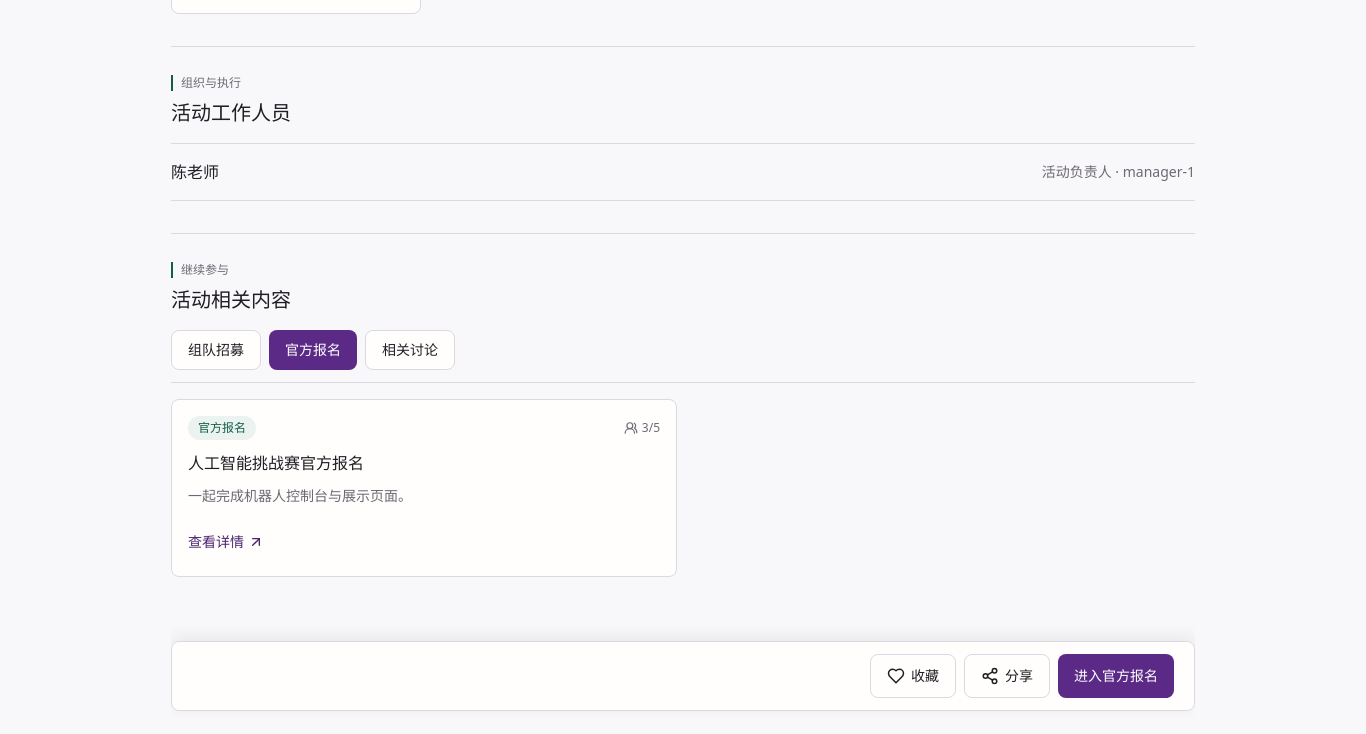
Test case: TopicDetail activity experience › keeps every related-post category reachable instead of hiding recruitment posts
The image size is (1366, 734).
(page scrolled)
Expected: the heading "人工智能挑战赛官方报名" is shown, [188, 455, 364, 472]
Click the tab "组队招募" at x=216, y=350, box [171, 330, 261, 370]
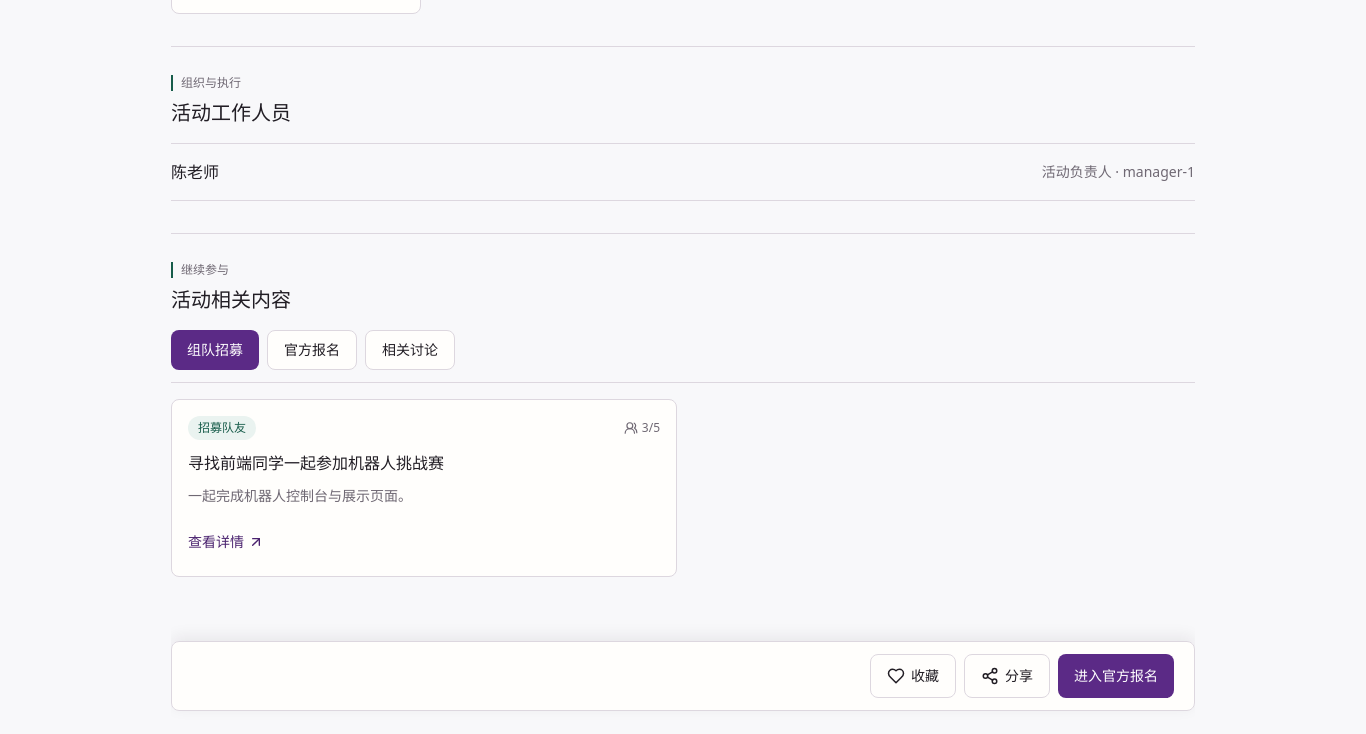
Result: the heading "寻找前端同学一起参加机器人挑战赛" is shown at [188, 455, 444, 472]
Click the tab "相关讨论" at x=410, y=350, box [365, 330, 455, 370]
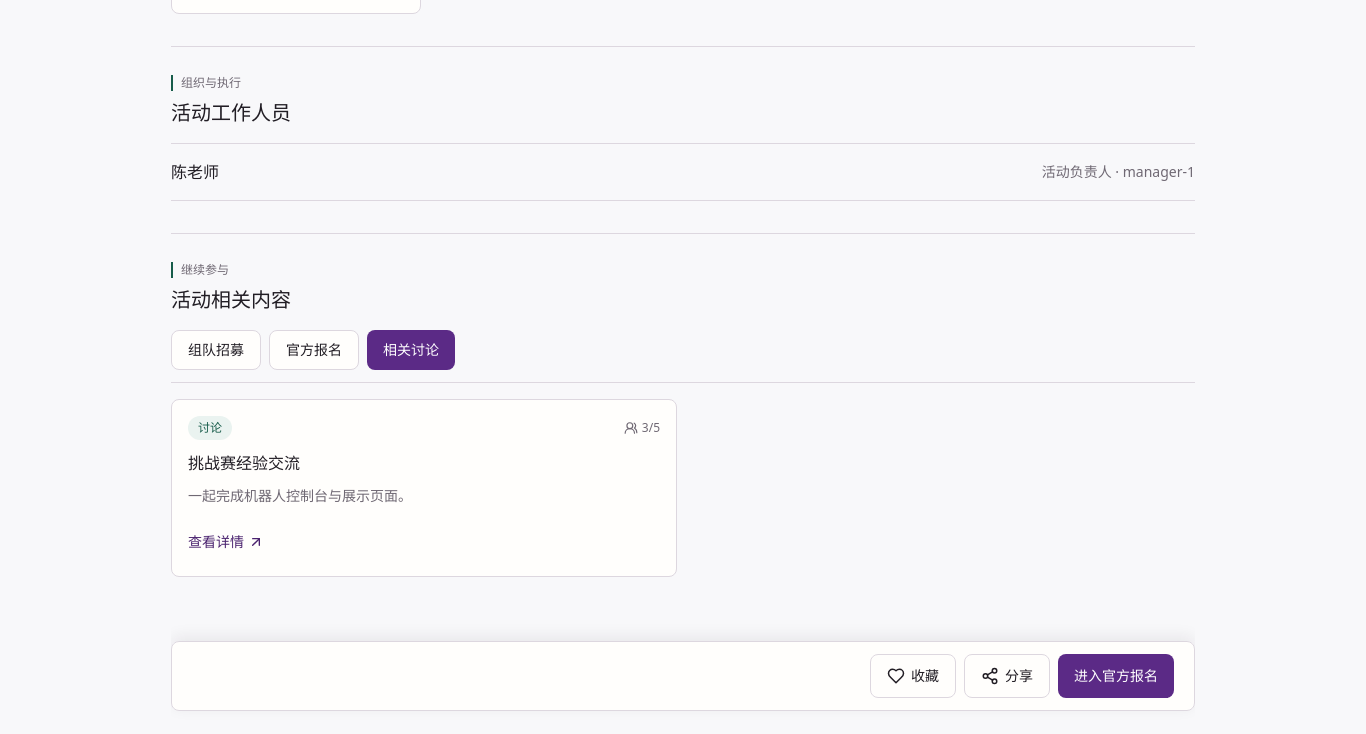
Result: the heading "挑战赛经验交流" is shown at [188, 455, 300, 472]
